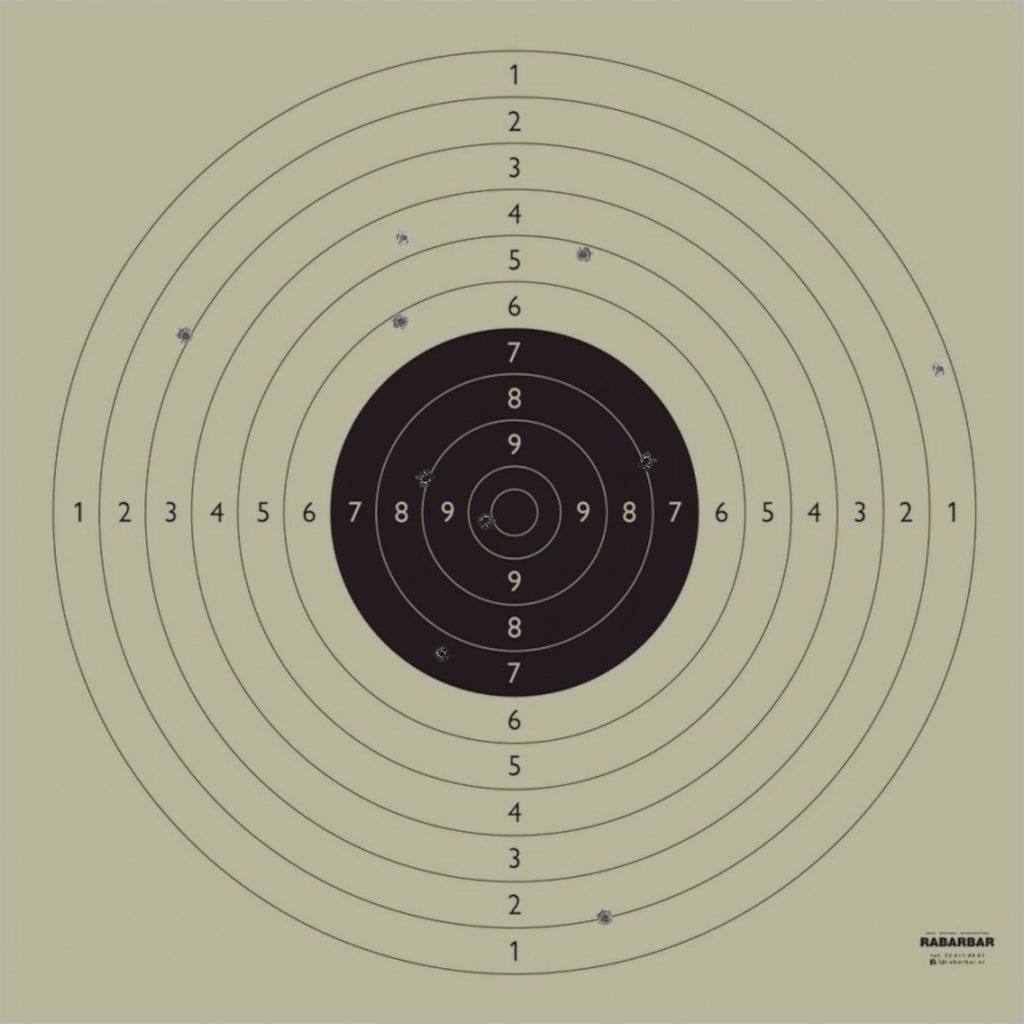0 punktow: (706, 23, 724, 42)
1 punkt: (931, 360, 949, 378)
10 punktow: (477, 511, 495, 530)
2 punkty: (596, 909, 614, 927)
3 punkty: (176, 326, 195, 345)
4 punkty: (394, 229, 413, 247)
5 punktow: (574, 245, 593, 264)
6 punktow: (392, 312, 410, 331)
7 punktow: (432, 645, 451, 663)
8 punktow: (637, 453, 655, 471)
9 punktow: (417, 469, 435, 487)
